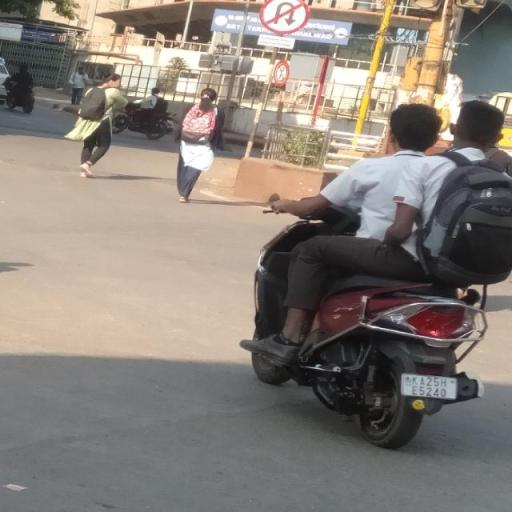bike: (238, 96, 512, 454)
numberplate: (401, 372, 458, 405)
withouthelmet: (454, 99, 508, 153), (392, 104, 439, 148)
